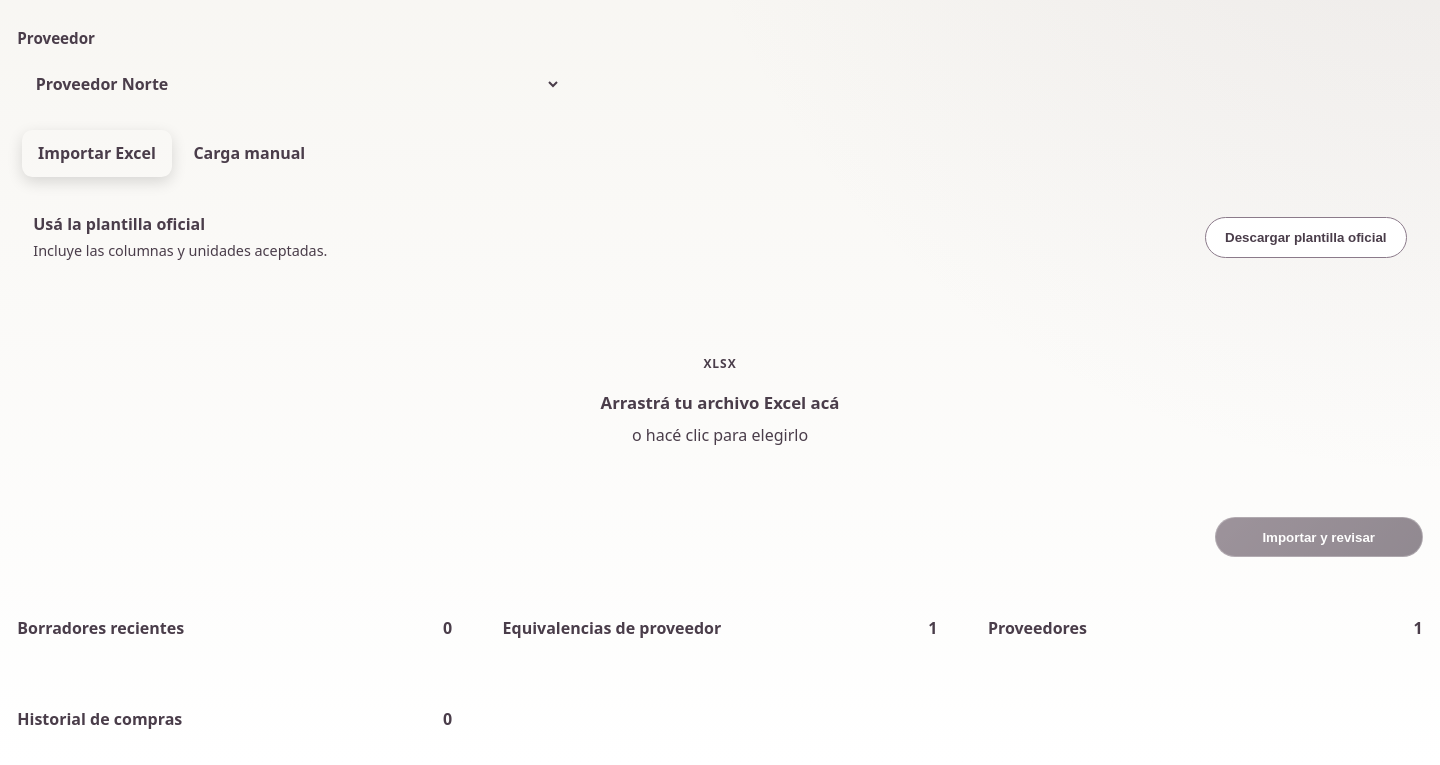
Test: AdminProcurementPage › repairs and reactivates an inactive mapping for future imports
(page scrolled)
Click the heading "Equivalencias de proveedor 1" at (720, 628), box [503, 616, 937, 640]
(page scrolled)
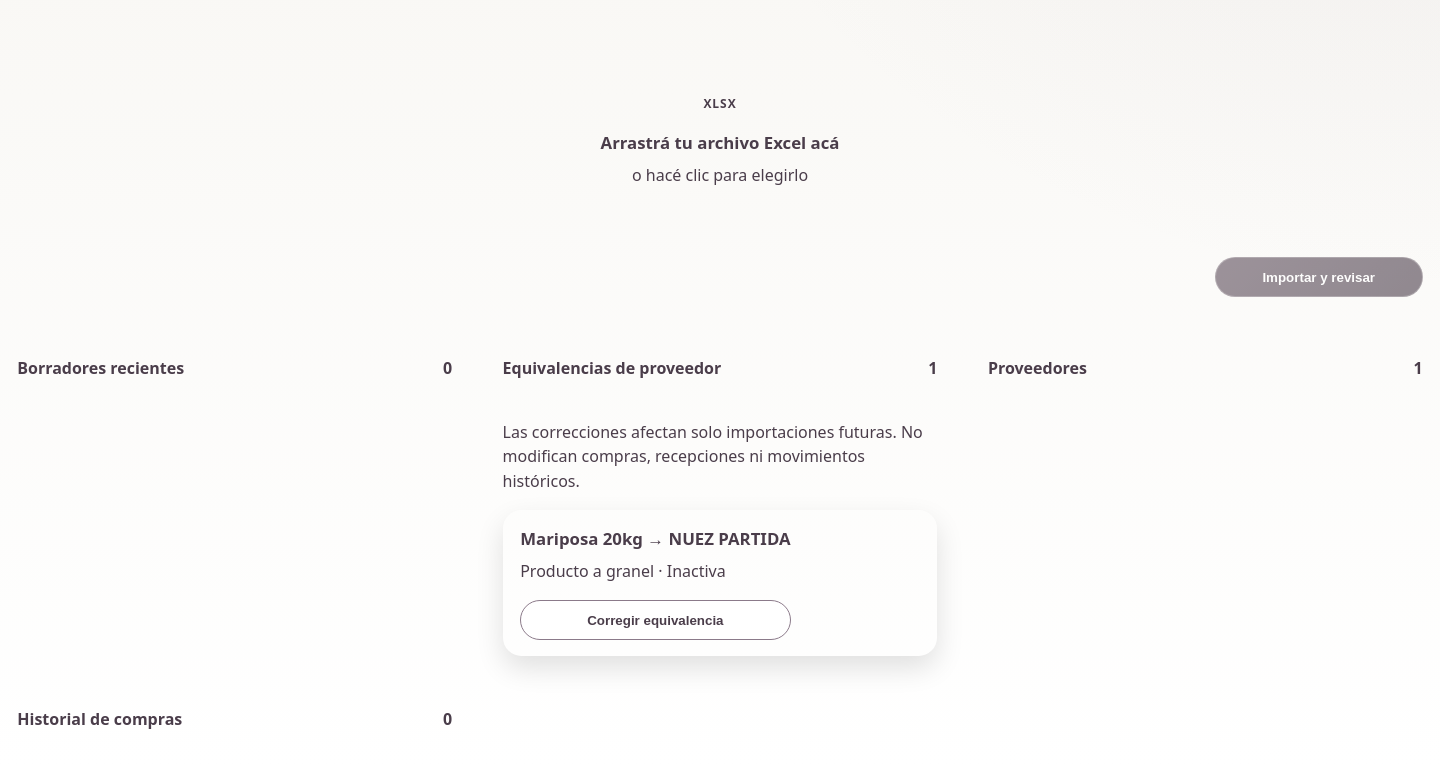
Result: the text "Mariposa 20kg → NUEZ PARTIDA" is shown at [520, 526, 791, 552]
Click the button "Corregir equivalencia" at (655, 620), box [520, 600, 791, 640]
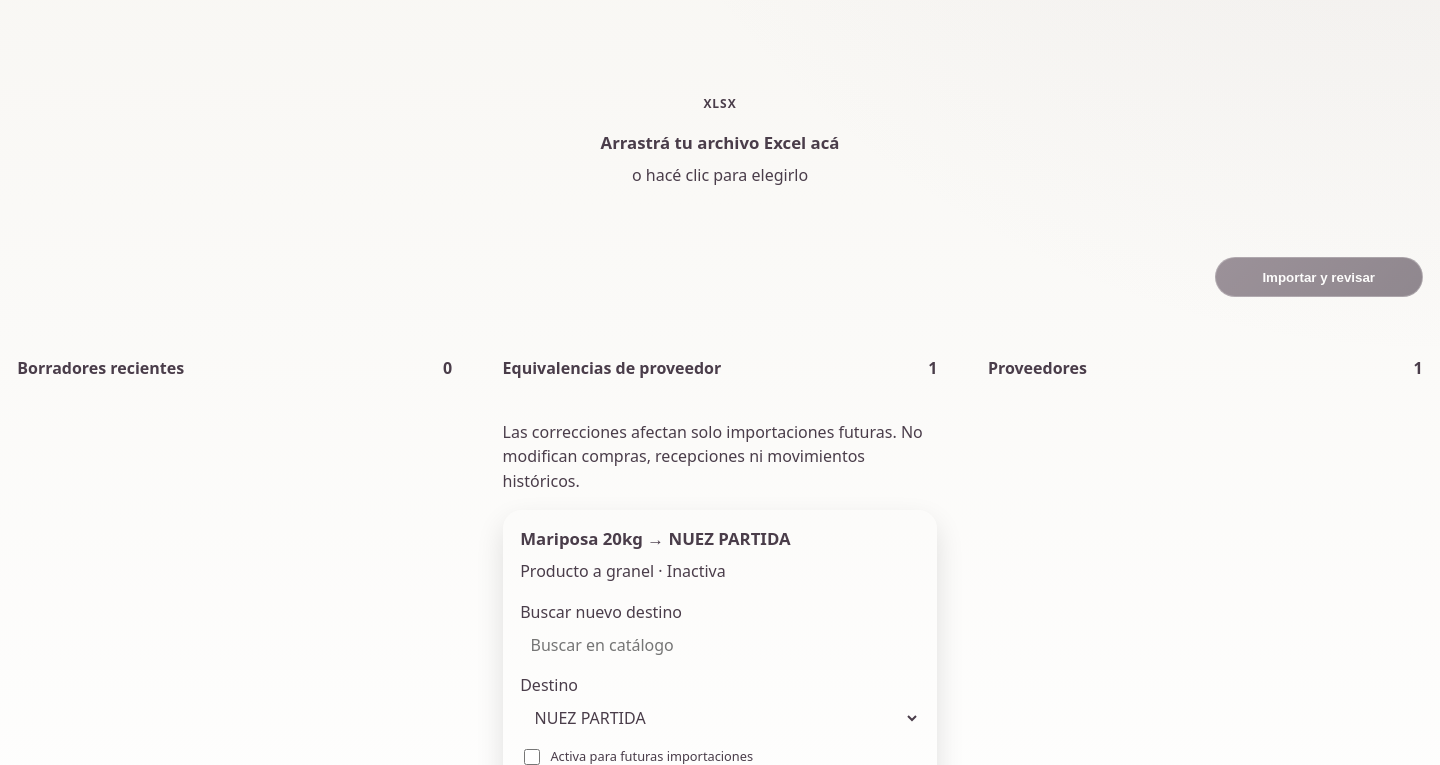
Type "mari" into the field named "Buscar nuevo destino para Mariposa 20kg" at (720, 645), box [520, 625, 920, 666]
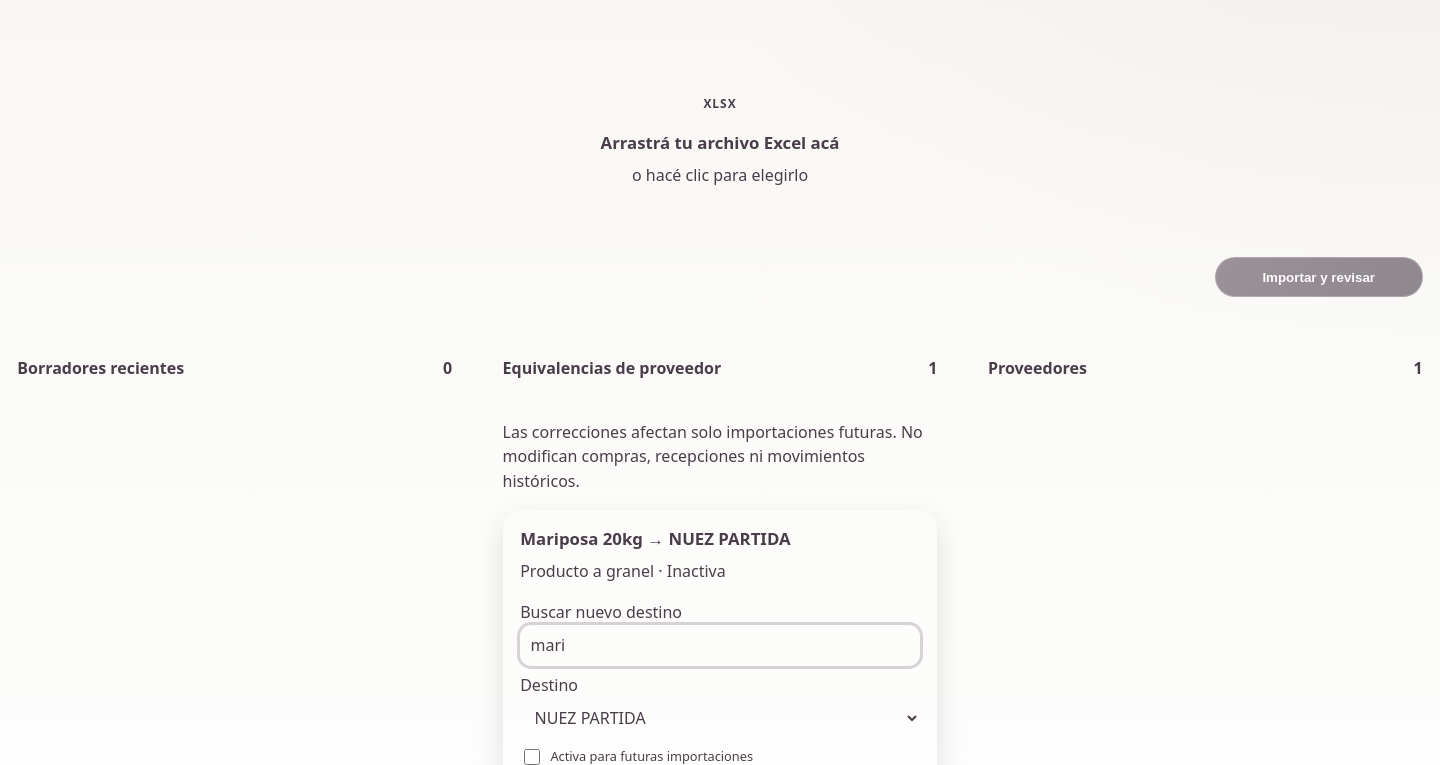
Select "NUEZ MARIPOSA (a granel)" in the dropdown named "Destino para Mariposa 20kg" at (720, 718), box [520, 698, 920, 738]
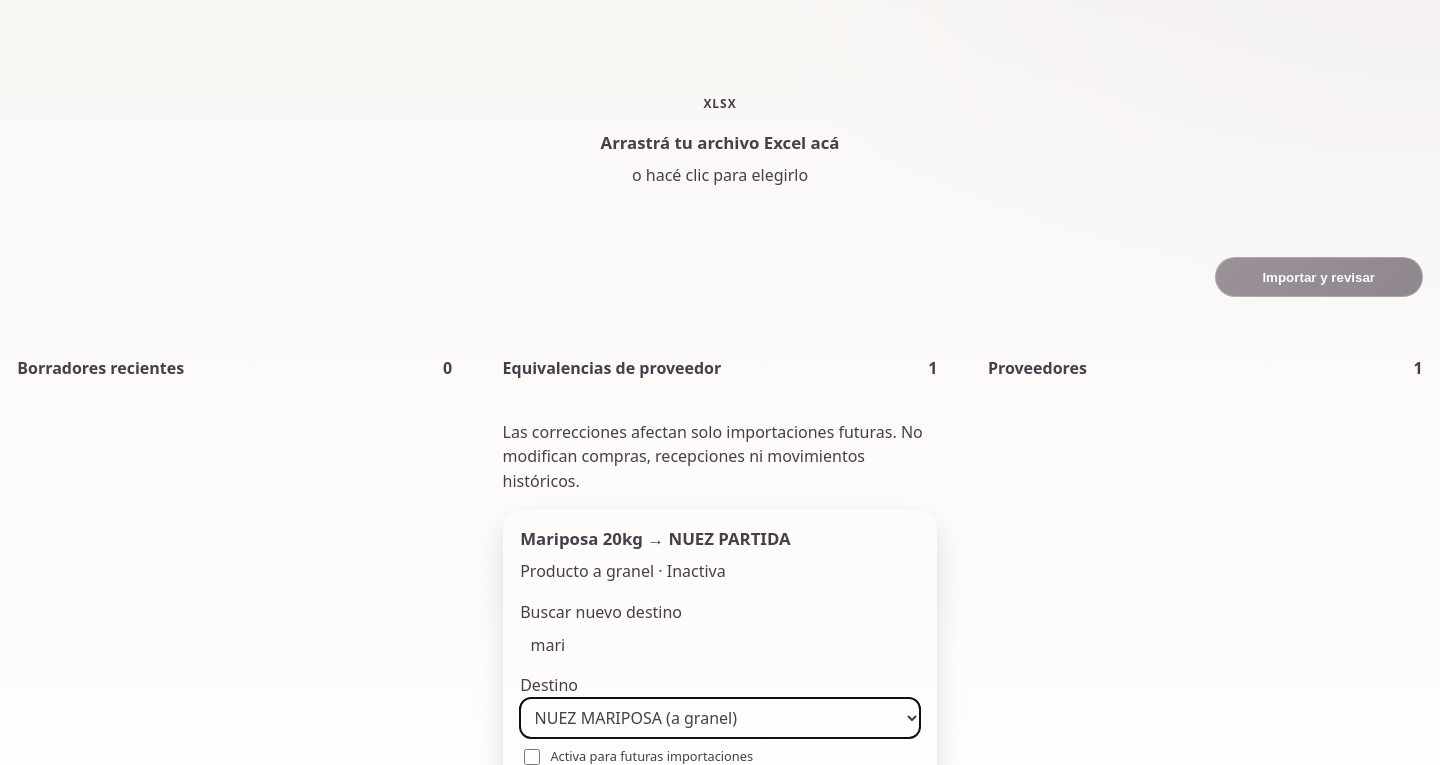
Click the checkbox named "Equivalencia activa para Mariposa 20kg" at (532, 757), box [524, 749, 540, 764]
(page scrolled)
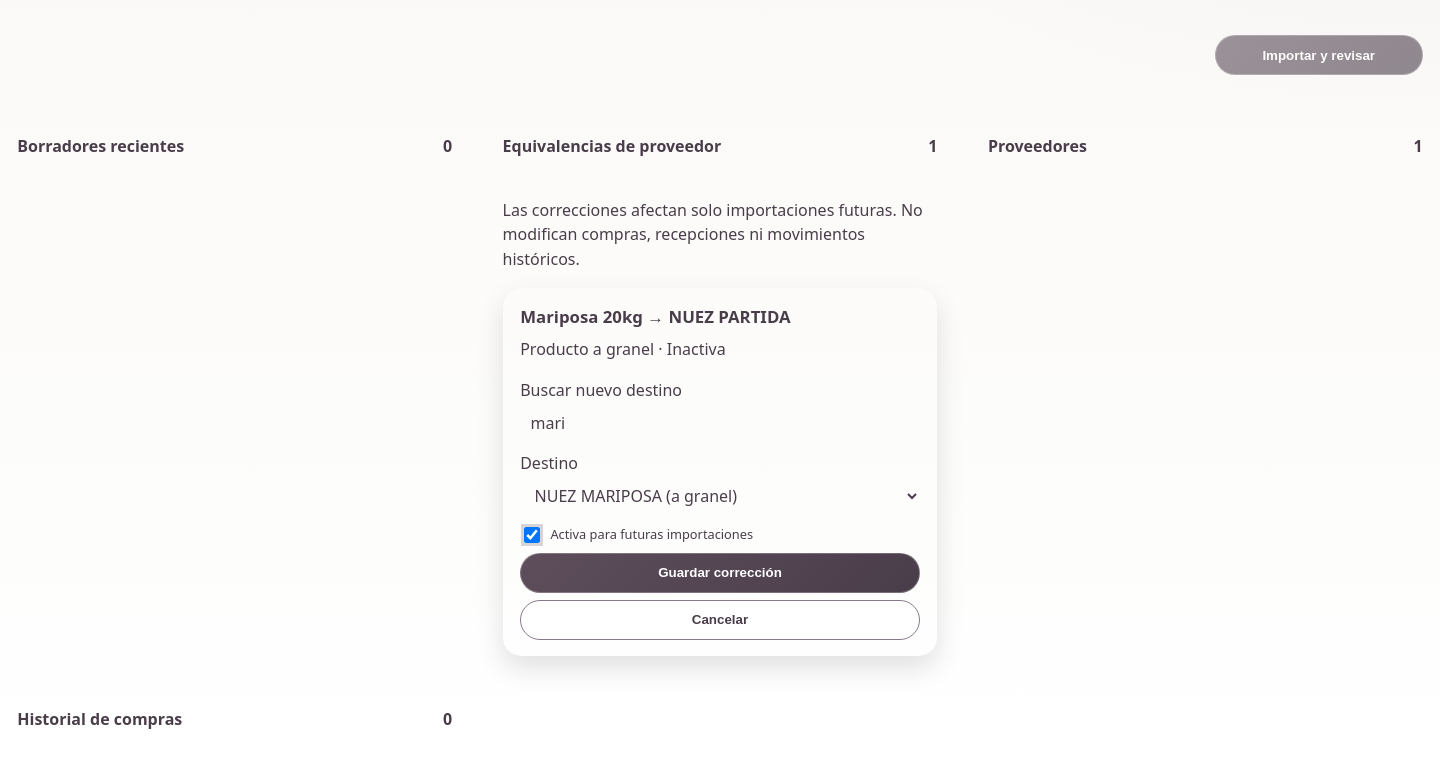
Click the button "Guardar corrección" at (720, 573), box [520, 553, 920, 593]
(page scrolled)
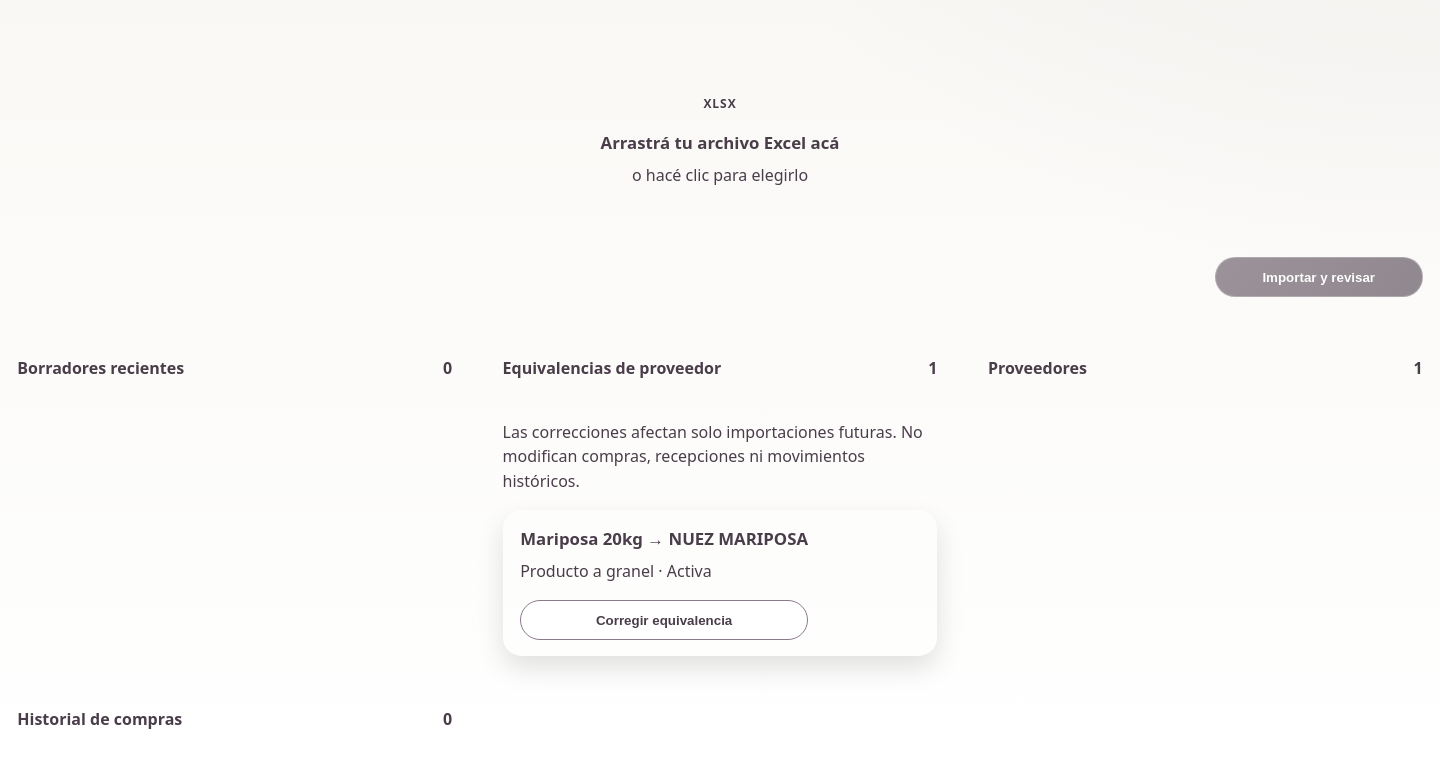
Result: the text "Mariposa 20kg → NUEZ MARIPOSA" is shown at [520, 526, 808, 552]
